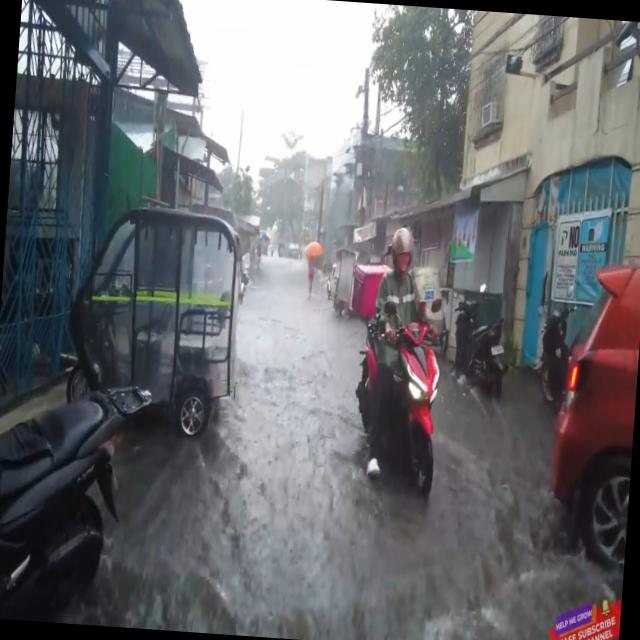half: (390, 225, 414, 276)
